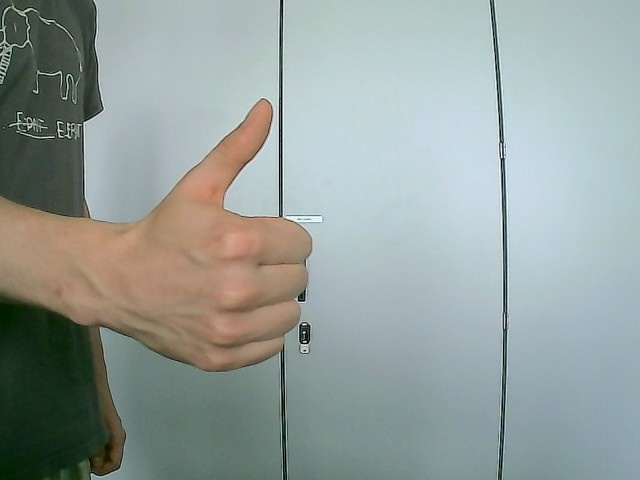up: (97, 97, 313, 374)
